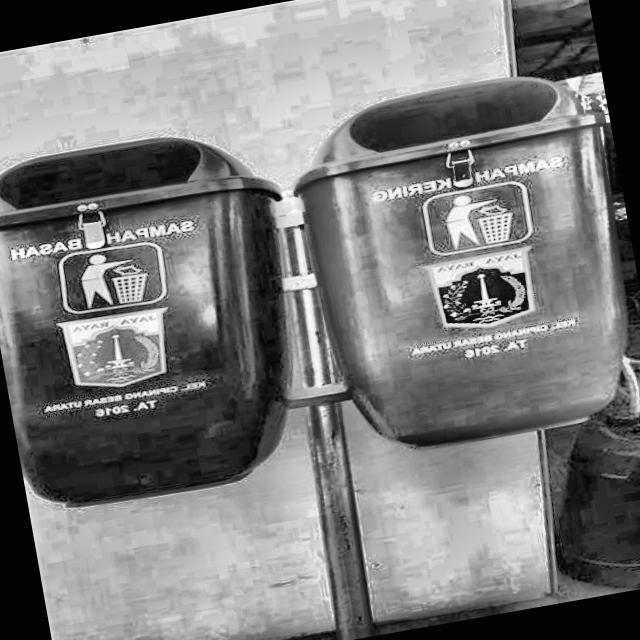Dustbin: (255, 33, 640, 483), (0, 97, 329, 522)
